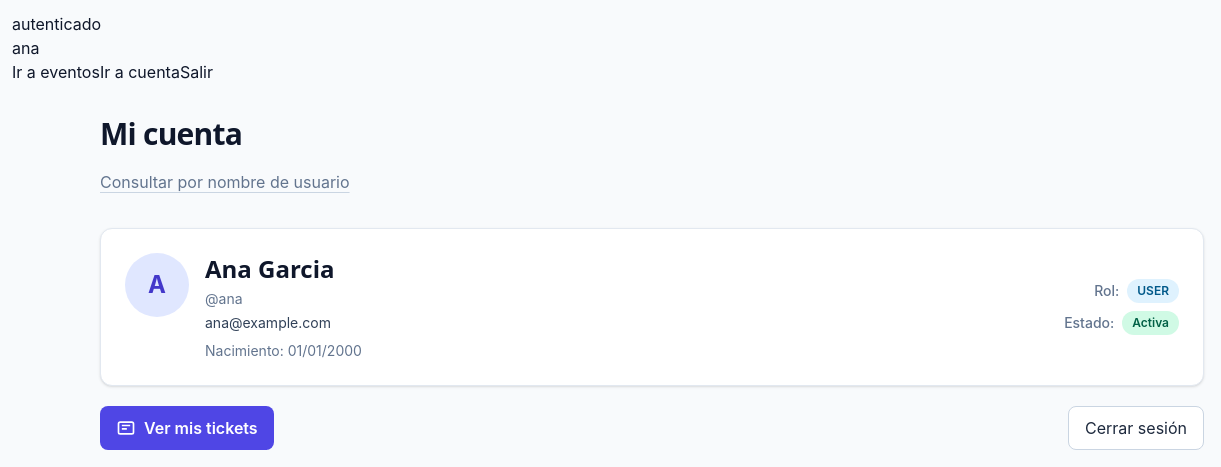
Session continuity during navigation › manual logout from a guarded account ends at home instead of login
Expected: the heading "Ana Garcia" is shown, [205,252,334,285]
Click the button "Cerrar sesión" at (1136, 428), box [1068,406,1204,450]
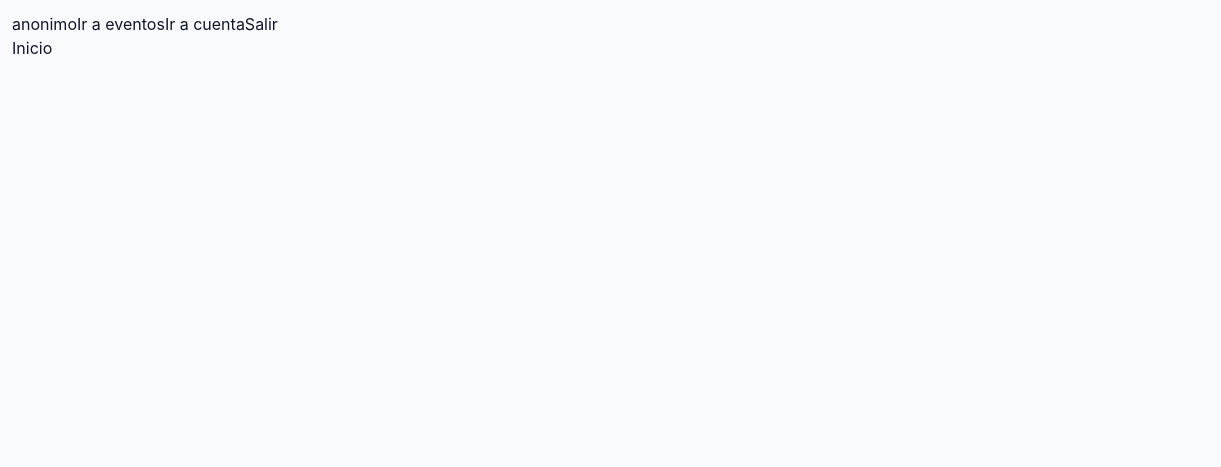
Expected: the text named "Estado de sesión" reads "anonimo", [12,14,77,34]
